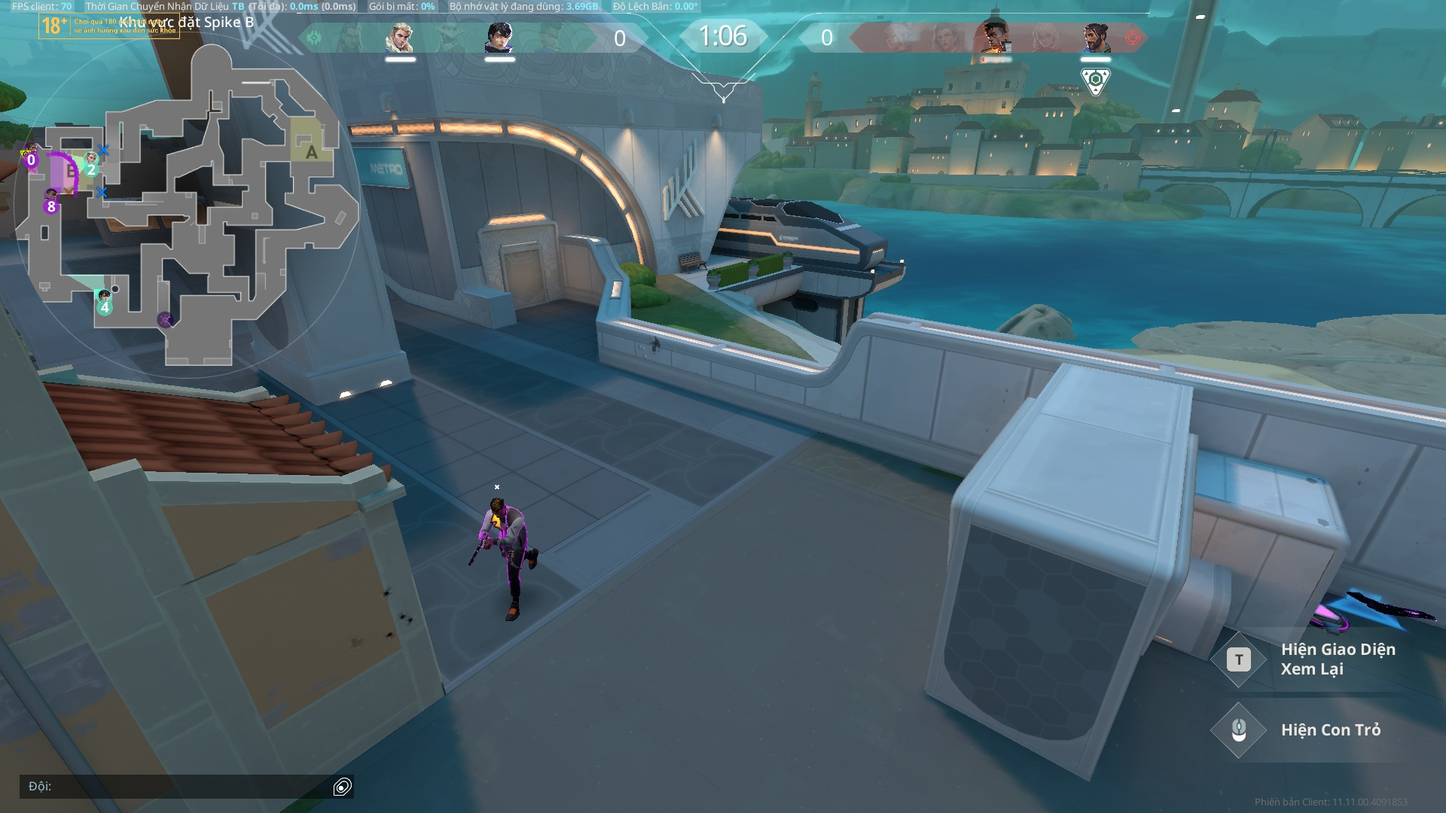body: (487, 507, 529, 544)
head: (488, 497, 508, 516)
